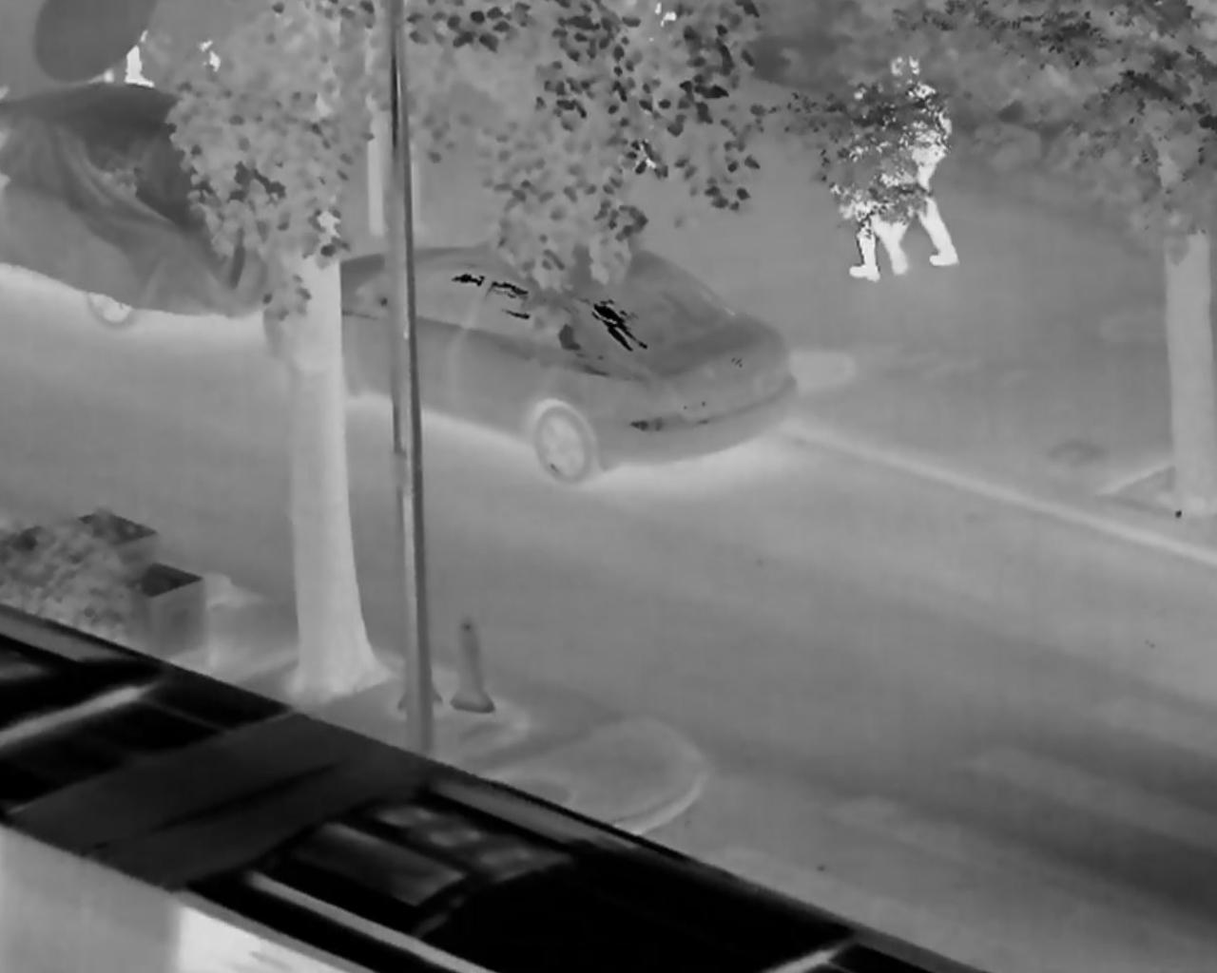person: (877, 56, 956, 266), (836, 84, 907, 283)
